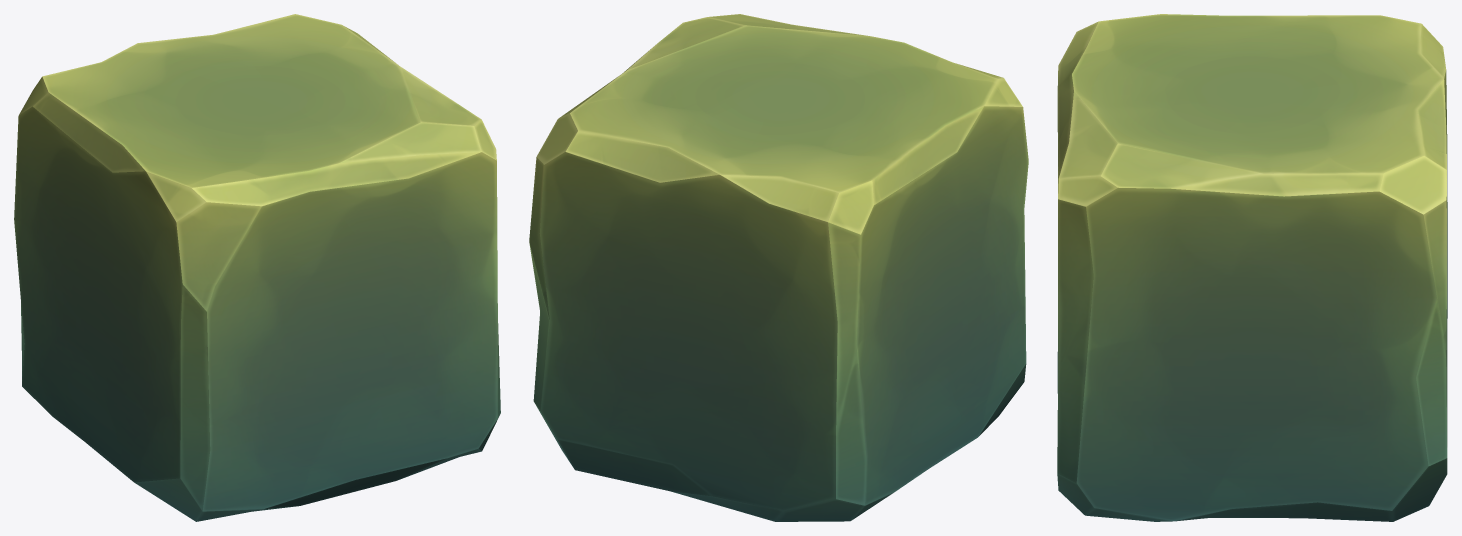
The model's file is stylized_material_test.glb.
3 renders of one model, left to right at view 1: azimuth 30°, elevation 25°; view 2: azimuth 150°, elevation 25°; view 3: azimuth 270°, elevation 25°, orthographic. The views are drawn at different scales.
Visible parts, largest first — view 1: Cube; view 2: Cube; view 3: Cube.
Part boxes in pixels (x1,y1,x2,y2): Cube: (14,14,500,521); Cube: (529,14,1028,521); Cube: (1057,14,1447,521).
Size of the model in its own units: 2.01 by 2 by 2.
Materials: 1 (1 with a texture image).
